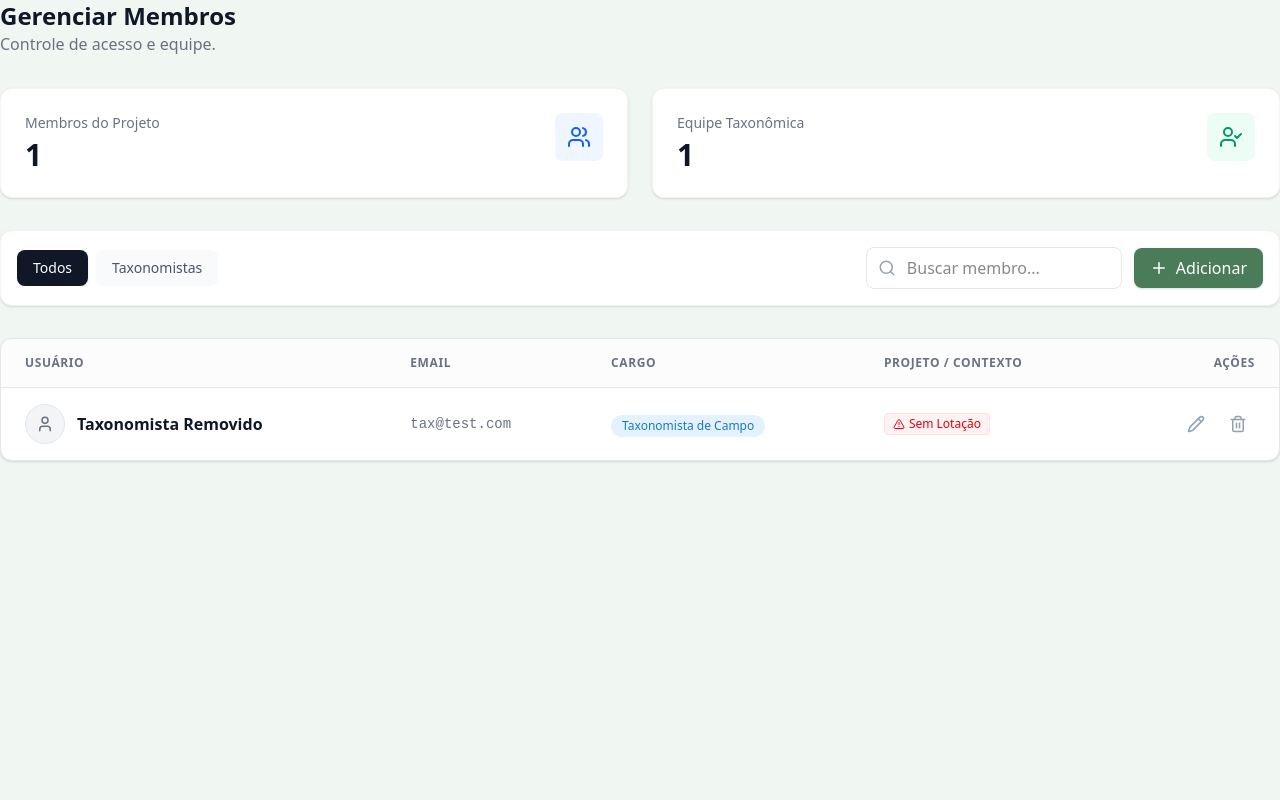
Test: Users Page RBAC › Rebaixamento e vínculo de Consulente › como Gestor, a linha some após o sucesso do rebaixamento
Click the button titled "Rebaixar para Consulente": (1238, 424) [1221,407,1255,441]
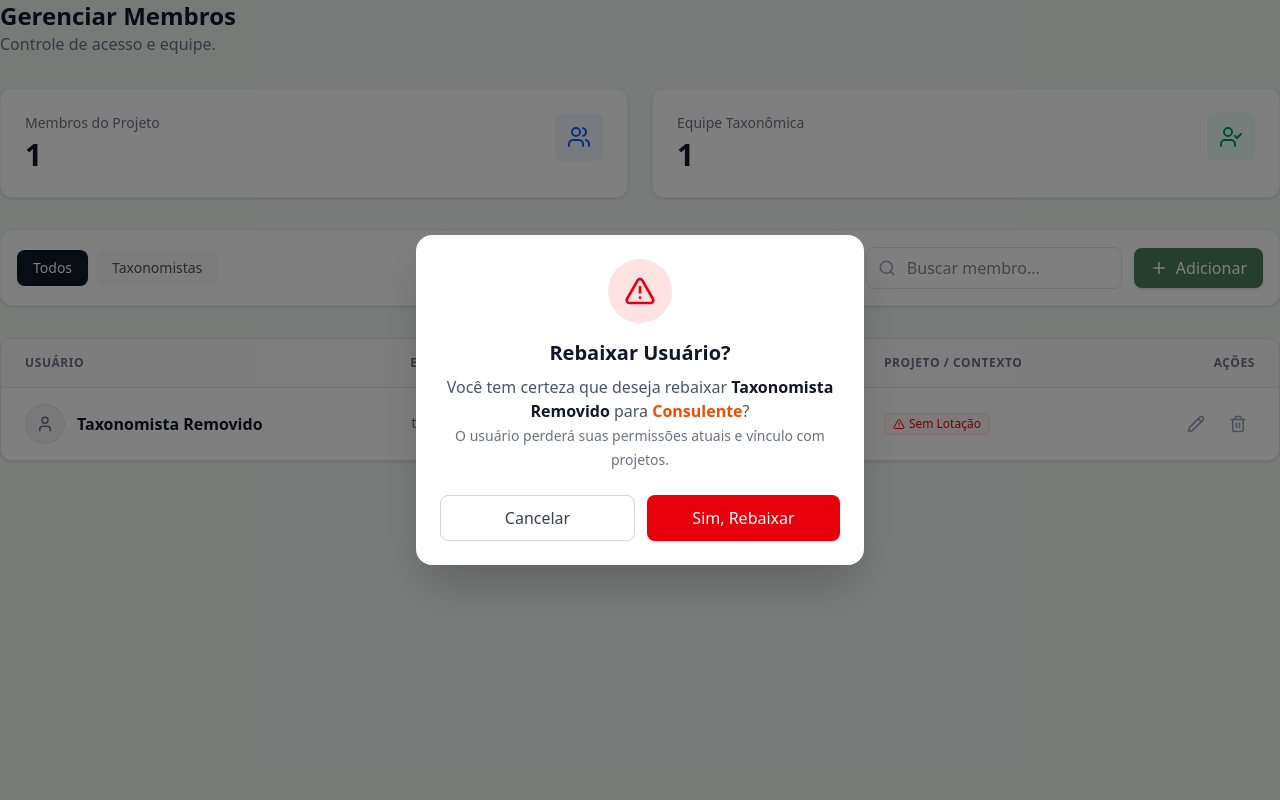
Click the button "Sim, Rebaixar": (744, 518) [647,495,840,541]
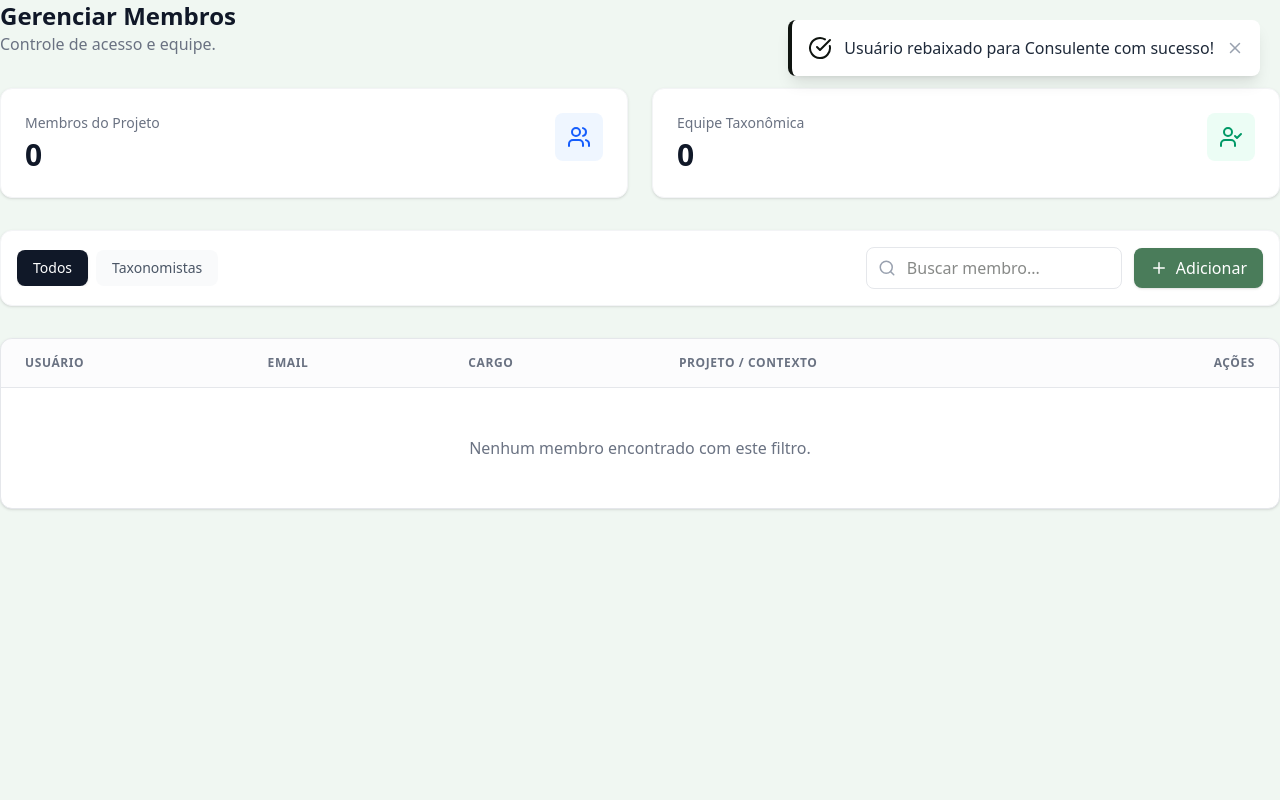
Expected: the text "Taxonomista Removido" is gone
